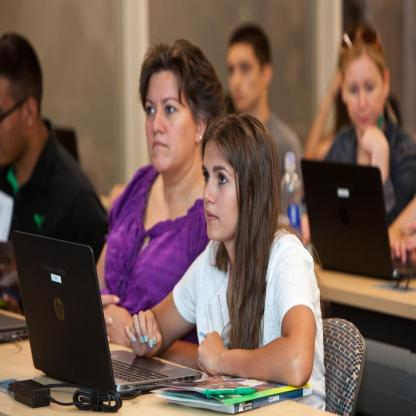board: (10, 231, 204, 397), (294, 153, 402, 283), (279, 150, 305, 240), (1, 310, 29, 342)
